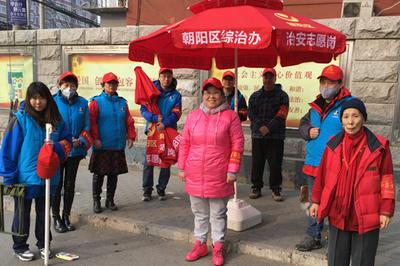up: (310, 90, 395, 266), (174, 75, 242, 264), (294, 64, 353, 249), (1, 78, 55, 263), (46, 67, 88, 233), (87, 69, 132, 215), (136, 64, 178, 204), (250, 66, 290, 196)
